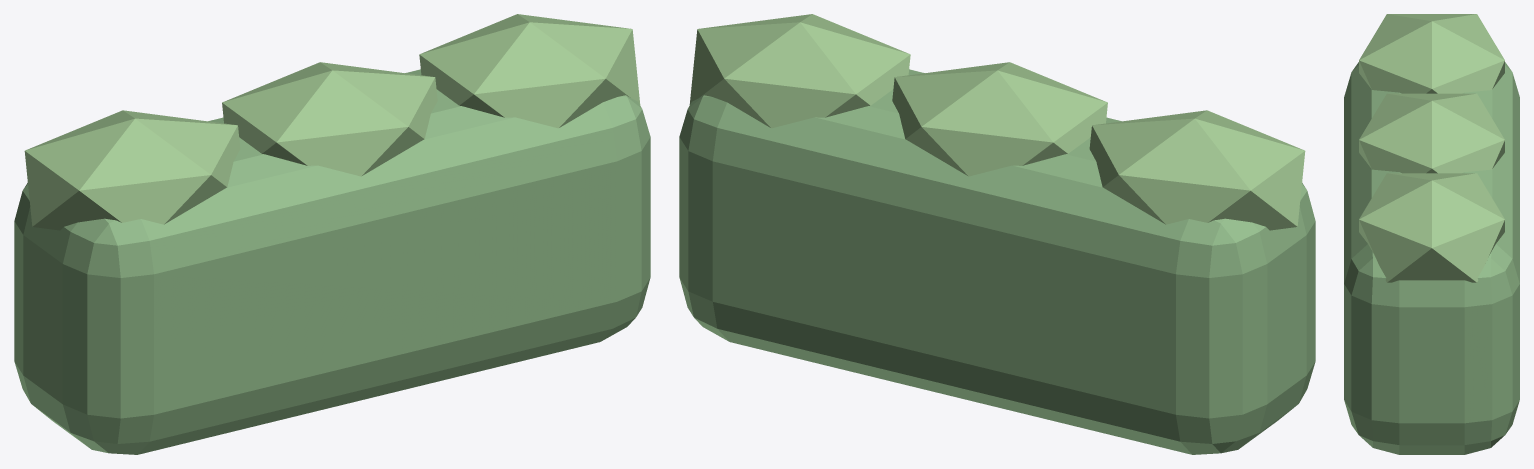
Rendered from hedge.glb.
The picture shows the model from 3 angles, left to right: view 1: azimuth 30°, elevation 25°; view 2: azimuth 150°, elevation 25°; view 3: azimuth 270°, elevation 25°; orthographic projection. The views are drawn at different scales.
Parts seen in each view (by area): view 1: hedge; view 2: hedge; view 3: hedge.
Boxes of the visible parts, bbox=[...] form: hedge: bbox=[14, 14, 650, 454]; hedge: bbox=[679, 14, 1315, 454]; hedge: bbox=[1344, 14, 1519, 454].
Bounding box in the file's own units: 2.28 × 1.12 × 0.7.
